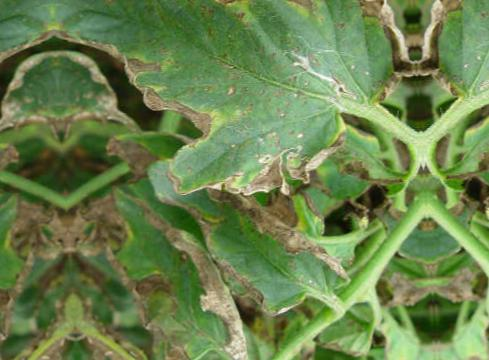Tomato leaf bacterial spot: (47, 0, 425, 209)
